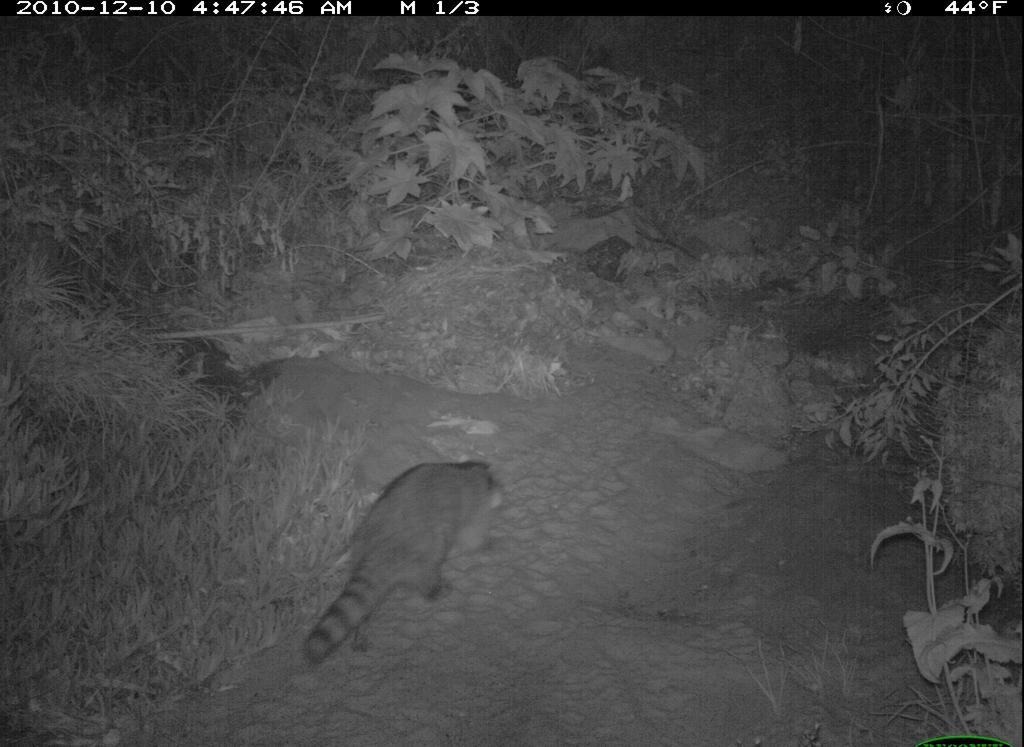raccoon: (296, 454, 506, 673)
